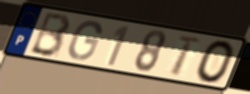1: (106, 24, 131, 67)
8: (133, 29, 168, 74)
B: (27, 11, 73, 59)
G: (66, 20, 103, 62)
O: (194, 39, 237, 85)
T: (169, 34, 202, 79)
